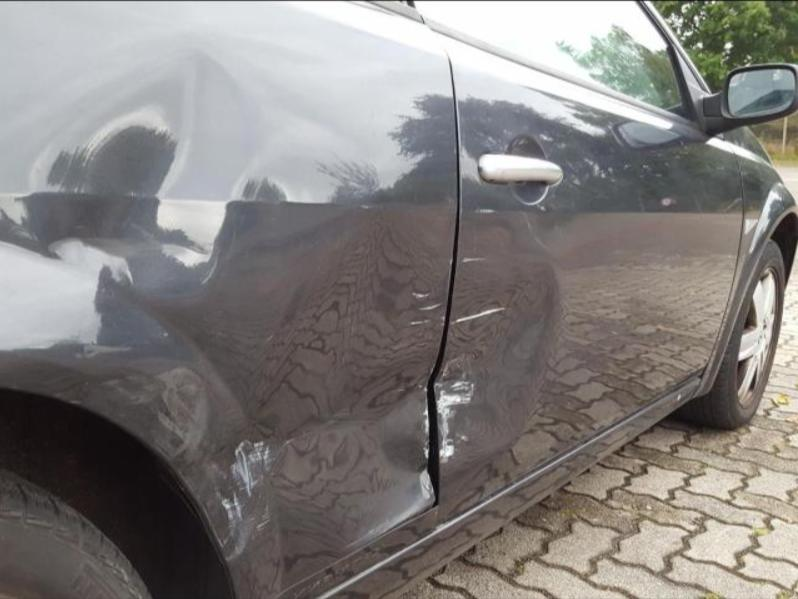Dent: (246, 227, 560, 557), (3, 51, 374, 305)
Scratch: (82, 366, 280, 569), (434, 379, 475, 464), (409, 290, 444, 324), (450, 308, 507, 325)
